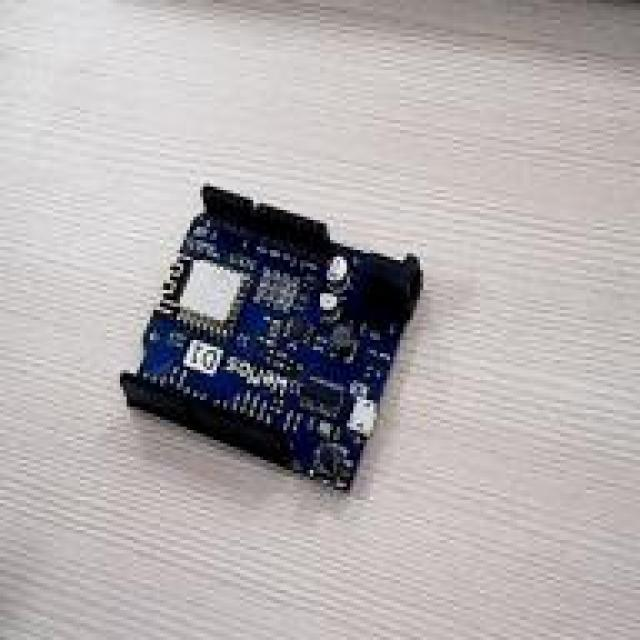Wemos: (121, 188, 421, 488)
